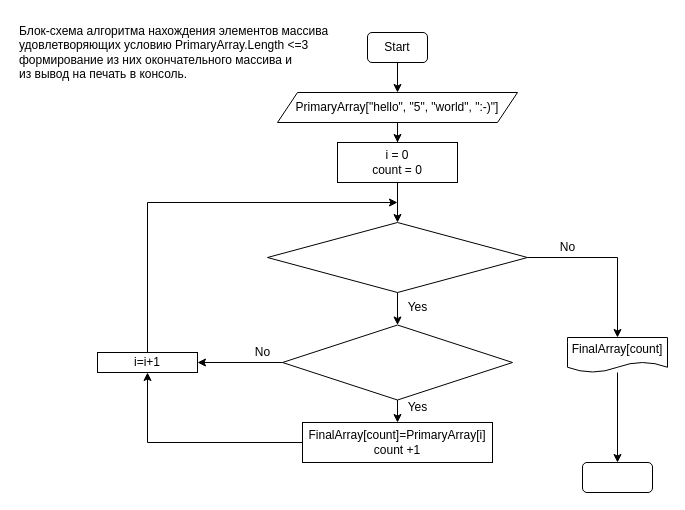
This 685x510 diagram has some shape labels left out. The shapes that lost their labels are listed below. From the top down, each one's box as (x1, y1, x2, y2) in pixels, then its label:
(266, 222, 528, 292): i<PrimaryArray.Length
(282, 324, 512, 400): PrimaryArray[i].Lengh<=3
(582, 462, 652, 492): Finish
